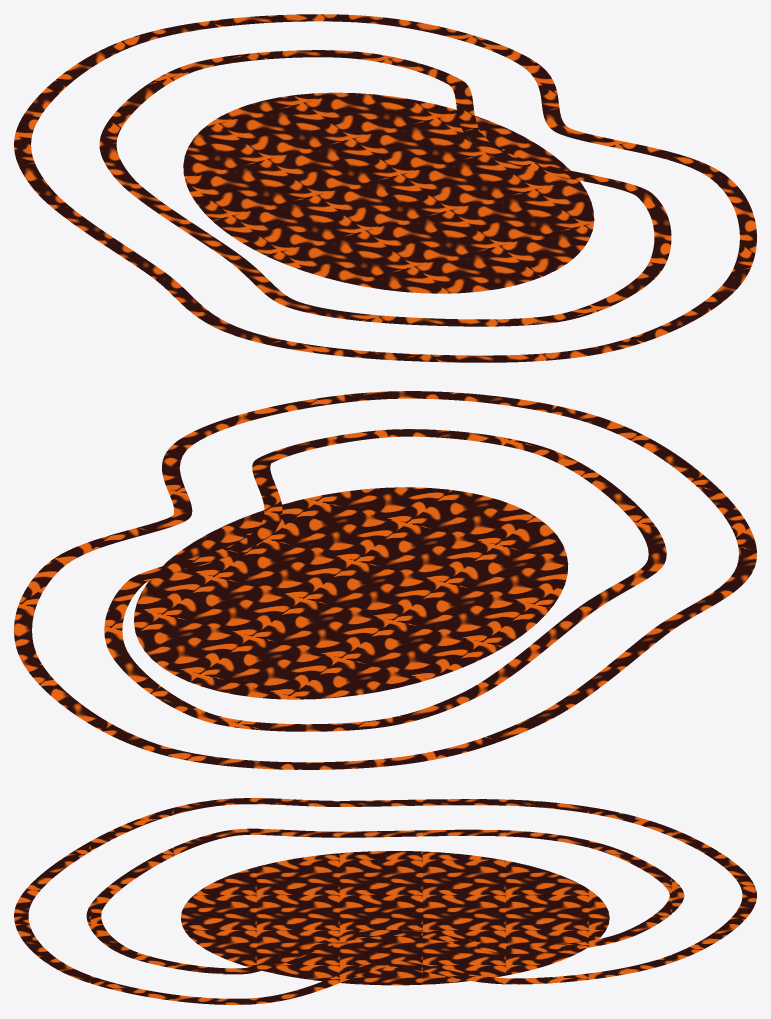
Rendered from Landscape_Lava_1.fbx.
3 renders of one model, top to bottom at view 1: azimuth 30°, elevation 25°; view 2: azimuth 150°, elevation 25°; view 3: azimuth 270°, elevation 25°, orthographic. The views are drawn at different scales.
Visible parts, largest first — view 1: Landscape_Lava_1; view 2: Landscape_Lava_1; view 3: Landscape_Lava_1.
Boxes of the visible parts, x1,y1,x2,y2 form: Landscape_Lava_1: (14,14,756,362); Landscape_Lava_1: (14,391,756,769); Landscape_Lava_1: (14,798,756,1004).
Bounding box in the file's own units: 74761 × 3840 × 107393.
1 material, 1 textured.
